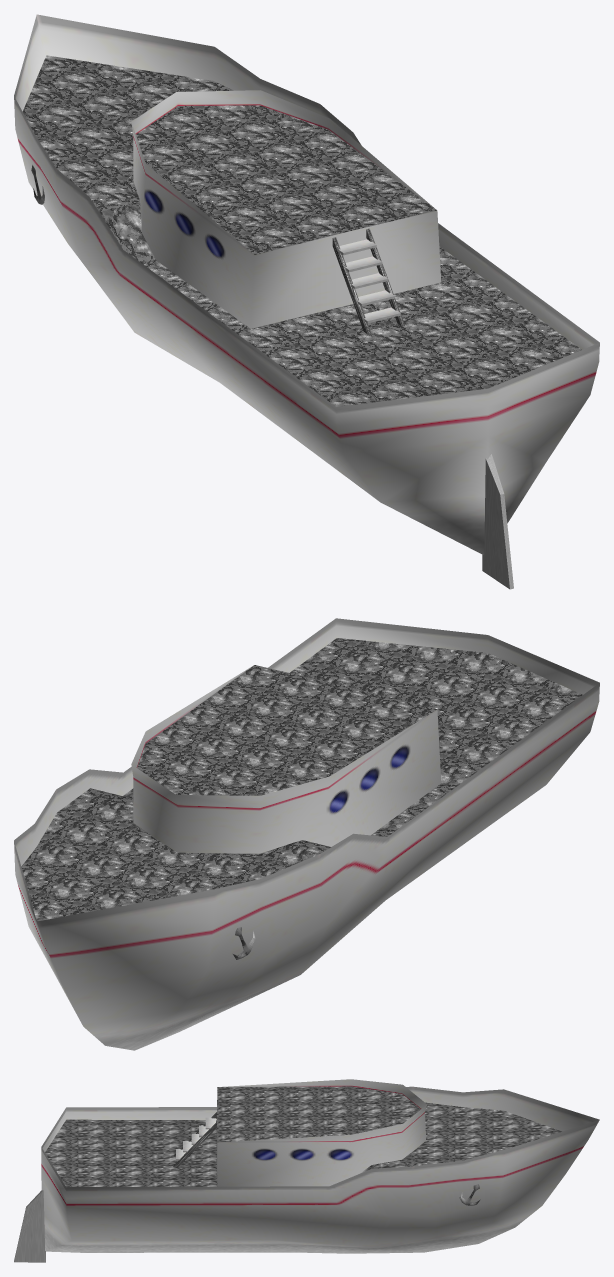
File: yacht05.obj
3 views of the same model, one above another, from view 1: azimuth 30°, elevation 25°; view 2: azimuth 150°, elevation 25°; view 3: azimuth 270°, elevation 25° (orthographic). The views are drawn at different scales.
Visible parts, largest first — view 1: hull, hullfloor, deck1floor, deck1, Box07; view 2: hull, hullfloor, deck1floor, deck1; view 3: hull, hullfloor, deck1, deck1floor, Box07, Duplicate01.
Boxes of the visible parts, bbox=[...] form: hull: bbox=[14, 14, 599, 554]; hullfloor: bbox=[22, 55, 581, 406]; deck1floor: bbox=[136, 105, 436, 254]; deck1: bbox=[131, 90, 441, 328]; Box07: bbox=[482, 454, 513, 589]; hull: bbox=[14, 618, 599, 1050]; hullfloor: bbox=[21, 638, 582, 921]; deck1floor: bbox=[137, 665, 436, 795]; deck1: bbox=[131, 666, 441, 853]; hull: bbox=[41, 1086, 599, 1253]; hullfloor: bbox=[45, 1102, 561, 1187]; deck1: bbox=[217, 1079, 427, 1186]; deck1floor: bbox=[217, 1086, 420, 1142]; Box07: bbox=[14, 1190, 45, 1262]; Duplicate01: bbox=[173, 1122, 216, 1166].
Bounding box in the file's own units: 50.51 × 46.36 × 157.
